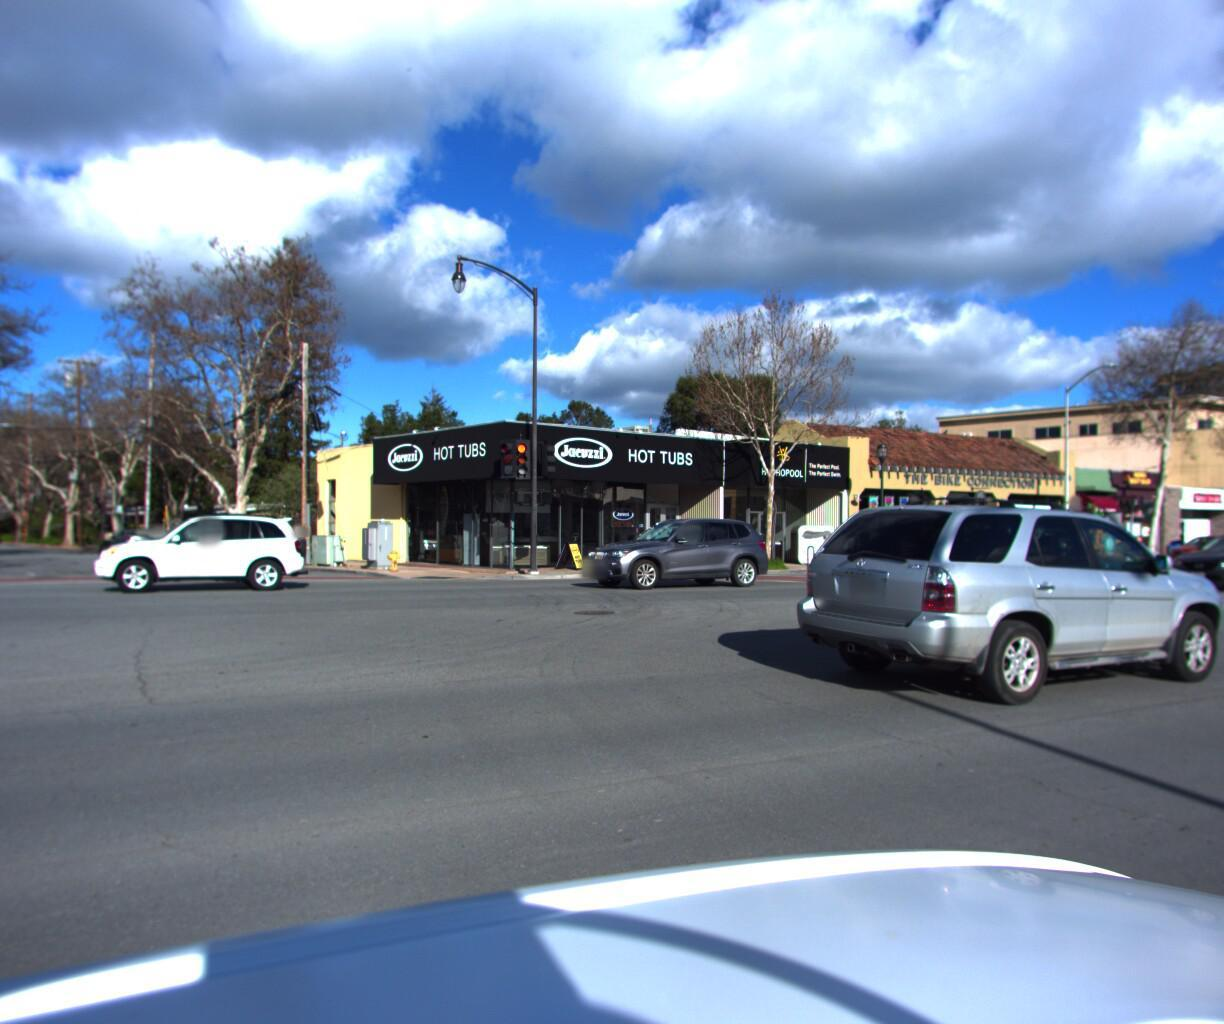car: (767, 474, 1224, 720), (75, 515, 322, 600), (569, 518, 774, 593), (1017, 501, 1143, 568), (1148, 530, 1224, 592), (1152, 528, 1224, 569), (108, 532, 166, 561)
